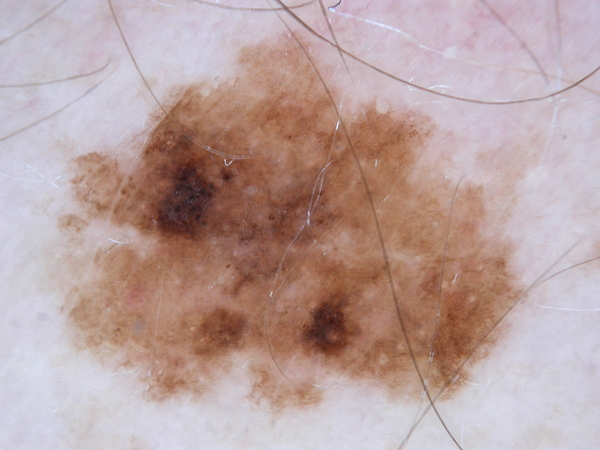Detected Lesion: (50, 32, 531, 420)
